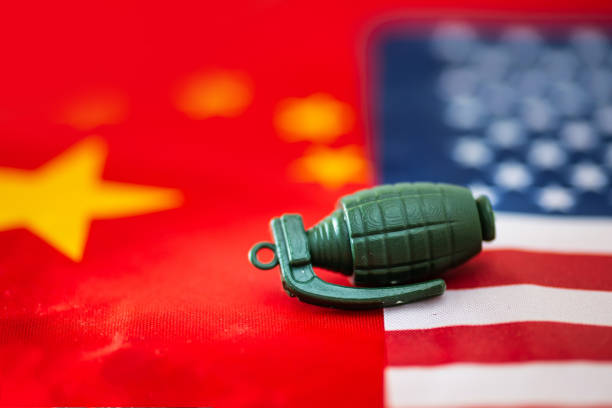e1: (250, 179, 499, 307)
